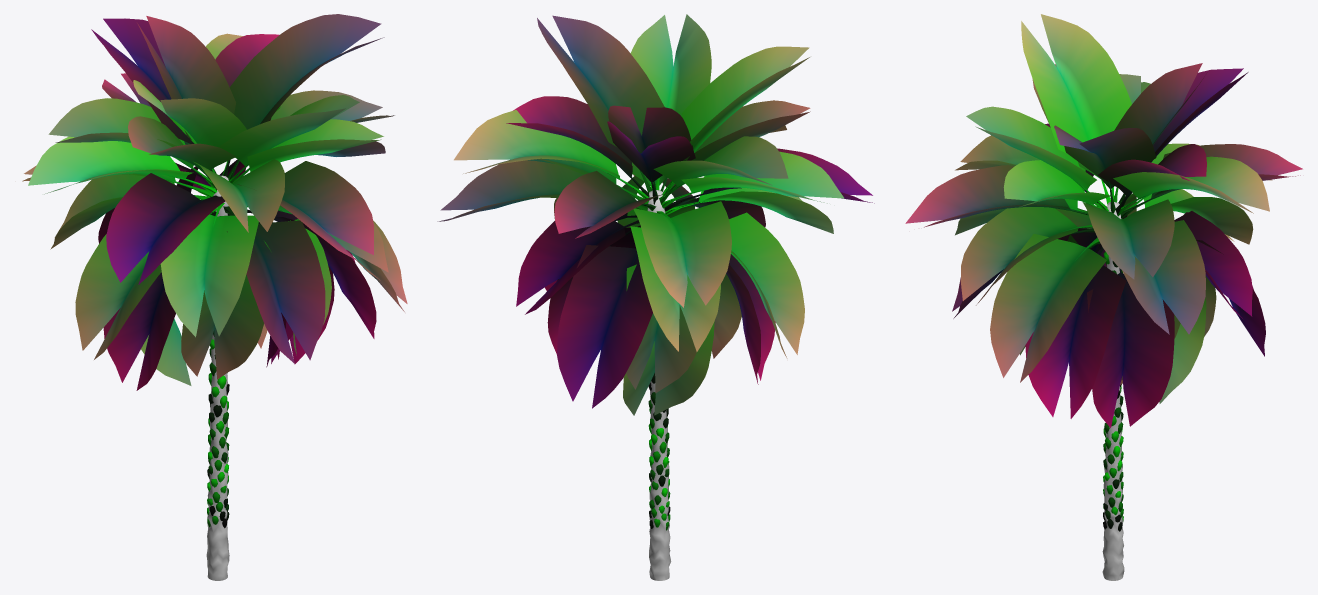
File: date palm.fbx
The picture shows the model from 3 angles, left to right: view 1: azimuth 30°, elevation 25°; view 2: azimuth 150°, elevation 25°; view 3: azimuth 270°, elevation 25°; orthographic projection. The views are drawn at different scales.
Visible parts, largest first — view 1: Tree_1, Tree_0, Tree_2, Tree_3; view 2: Tree_1, Tree_0, Tree_2, Tree_3; view 3: Tree_1, Tree_0, Tree_2, Tree_3.
Part boxes in pixels (<box>): Tree_1: <box>22,14,407,390</box>; Tree_0: <box>206,175,229,580</box>; Tree_2: <box>207,330,229,528</box>; Tree_3: <box>166,159,292,226</box>; Tree_1: <box>437,14,874,415</box>; Tree_0: <box>647,190,671,580</box>; Tree_2: <box>648,373,670,530</box>; Tree_3: <box>599,151,723,265</box>; Tree_1: <box>905,14,1302,427</box>; Tree_0: <box>1102,202,1124,580</box>; Tree_2: <box>1103,251,1123,531</box>; Tree_3: <box>1049,179,1167,292</box>.
Size of the model in its own units: 546 by 734 by 521.
